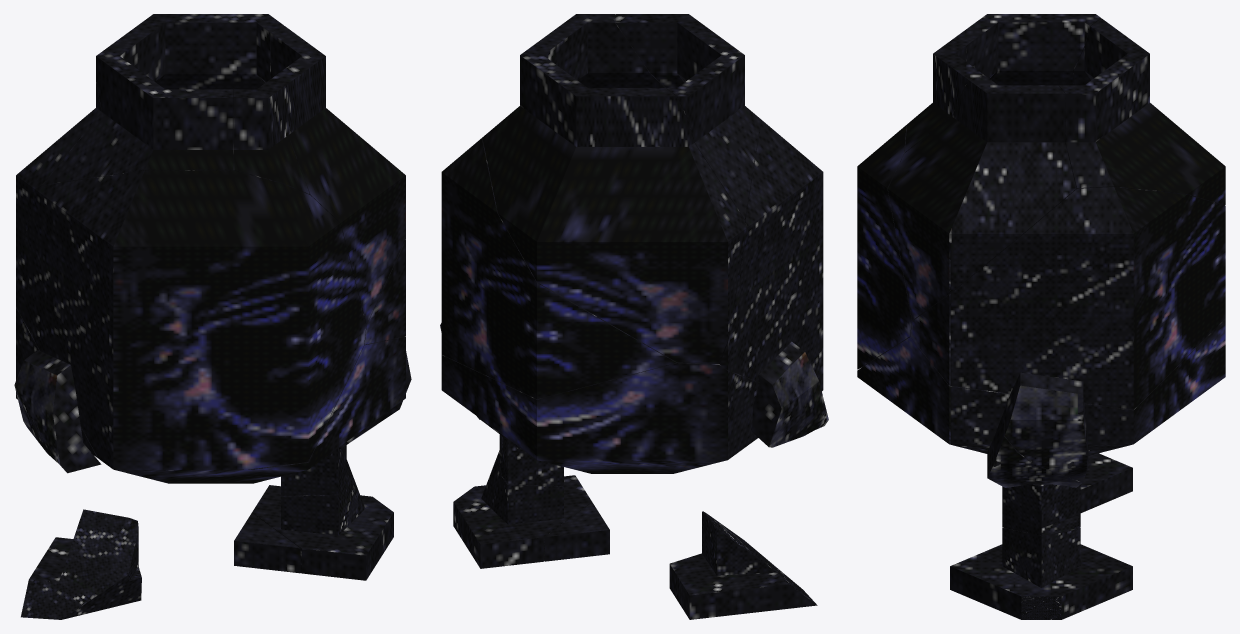
The model's file is vase_des.fbx.
The picture shows the model from 3 angles, left to right: view 1: azimuth 30°, elevation 25°; view 2: azimuth 150°, elevation 25°; view 3: azimuth 270°, elevation 25°; orthographic projection. The views are drawn at different scales.
Visible parts, largest first — view 1: vase_head.005, vase_head.004, vase_head.006, vase_head, vase_cell, vase_cell.003, vase_head.001, vase_head.003, vase_cell.002, vase_cell.008, vase_head.002, vase_cell.001; view 2: vase_head, vase_head.002, vase_head.001, vase_head.005, vase_head.006, vase_cell.003, vase_cell, vase_head.004, vase_cell.002, vase_head.003, vase_cell.008, vase_cell.001; view 3: vase_head.002, vase_head.004, vase_head, vase_head.001, vase_cell.003, vase_head.005, vase_head.006, vase_cell.007, vase_cell.001, vase_head.003, vase_cell.004, vase_cell.
Part boxes in pixels (x1=…): vase_head.005: x1=16, y1=170, x2=366, y2=471; vase_head.004: x1=270, y1=26, x2=405, y2=324; vase_head.006: x1=43, y1=52, x2=233, y2=184; vase_head: x1=16, y1=14, x2=283, y2=276; vase_cell: x1=21, y1=509, x2=141, y2=619; vase_cell.003: x1=252, y1=466, x2=393, y2=580; vase_head.001: x1=16, y1=307, x2=405, y2=483; vase_head.003: x1=234, y1=66, x2=309, y2=193; vase_cell.002: x1=14, y1=350, x2=101, y2=473; vase_cell.008: x1=234, y1=513, x2=300, y2=573; vase_head.002: x1=233, y1=115, x2=405, y2=344; vase_cell.001: x1=281, y1=445, x2=348, y2=495; vase_head: x1=482, y1=43, x2=746, y2=363; vase_head.002: x1=441, y1=138, x2=676, y2=399; vase_head.001: x1=441, y1=355, x2=759, y2=473; vase_head.005: x1=719, y1=120, x2=823, y2=390; vase_head.006: x1=666, y1=26, x2=761, y2=219; vase_cell.003: x1=453, y1=456, x2=591, y2=568; vase_cell: x1=669, y1=511, x2=817, y2=619; vase_head.004: x1=536, y1=14, x2=665, y2=87; vase_cell.002: x1=752, y1=341, x2=828, y2=447; vase_head.003: x1=615, y1=14, x2=705, y2=87; vase_cell.008: x1=544, y1=502, x2=609, y2=561; vase_cell.001: x1=497, y1=434, x2=563, y2=485; vase_head.002: x1=910, y1=187, x2=1225, y2=409; vase_head.004: x1=888, y1=76, x2=1076, y2=320; vase_head: x1=1059, y1=18, x2=1225, y2=205; vase_head.001: x1=857, y1=319, x2=1225, y2=455; vase_cell.003: x1=950, y1=528, x2=1132, y2=619; vase_head.005: x1=857, y1=125, x2=916, y2=369; vase_head.006: x1=949, y1=14, x2=1100, y2=85; vase_cell.007: x1=1004, y1=372, x2=1088, y2=482; vase_cell.001: x1=1002, y1=484, x2=1080, y2=535; vase_head.003: x1=905, y1=42, x2=984, y2=152; vase_cell.004: x1=987, y1=410, x2=1082, y2=487; vase_cell: x1=1080, y1=453, x2=1132, y2=512.
Bounding box in the file's own units: 123 × 166 × 114.
